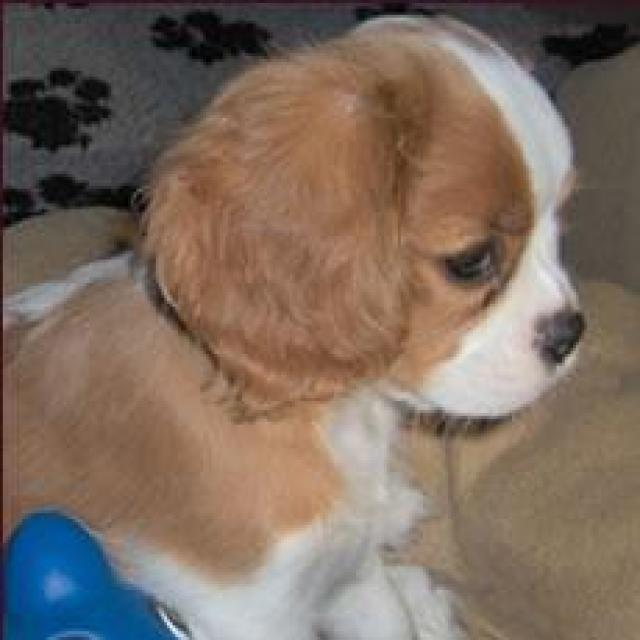blenheim_spaniel: (5, 15, 590, 637)
